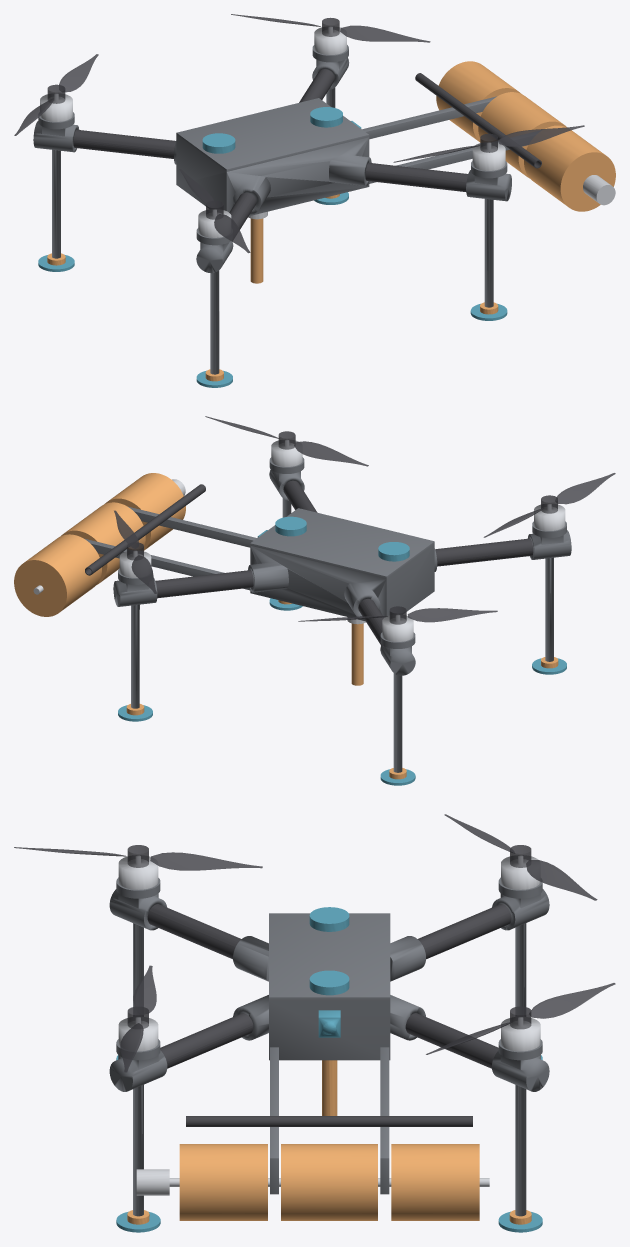
The model's file is hylas.glb.
3 renders of one model, top to bottom at view 1: azimuth 30°, elevation 25°; view 2: azimuth 150°, elevation 25°; view 3: azimuth 270°, elevation 25°, orthographic. The views are drawn at different scales.
Visible parts, largest first — view 1: Hylas V1; view 2: Hylas V1; view 3: Hylas V1.
Part boxes in pixels (x1,y1,x2,y2): Hylas V1: (14, 14, 615, 387); Hylas V1: (14, 416, 615, 785); Hylas V1: (14, 814, 615, 1232).
Bounding box in the file's own units: 0.6209 × 0.2123 × 0.5456.
